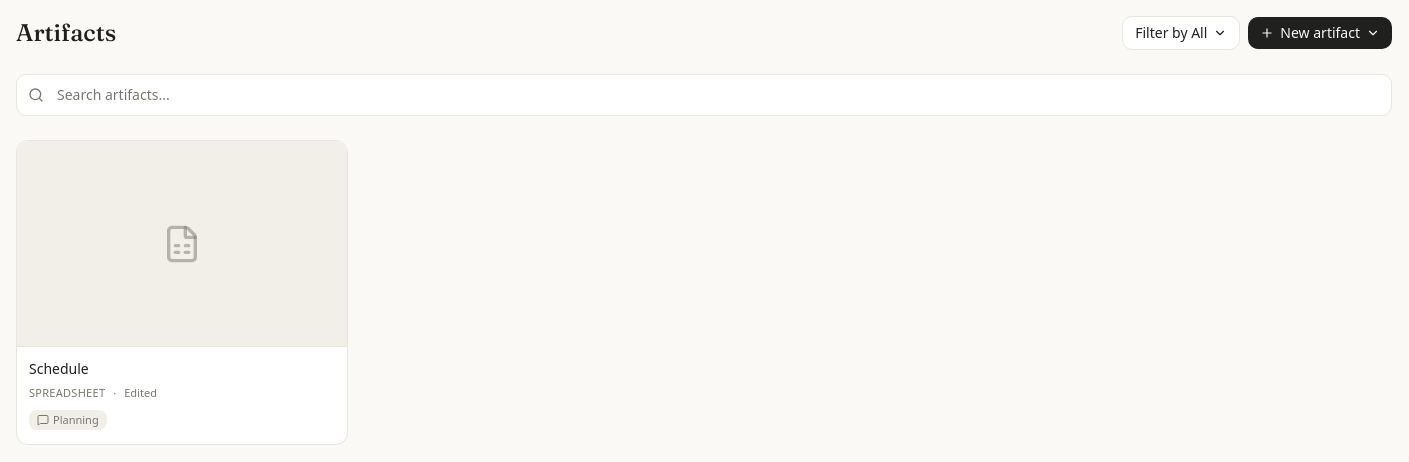
Test: ArtifactsView › filters the grid by the search query
expect the text "Schedule" is shown: met, box [29, 359, 89, 378]
Type "nonmatching" into the field with placeholder "Search artifacts..." at (704, 95), box [16, 74, 1392, 116]
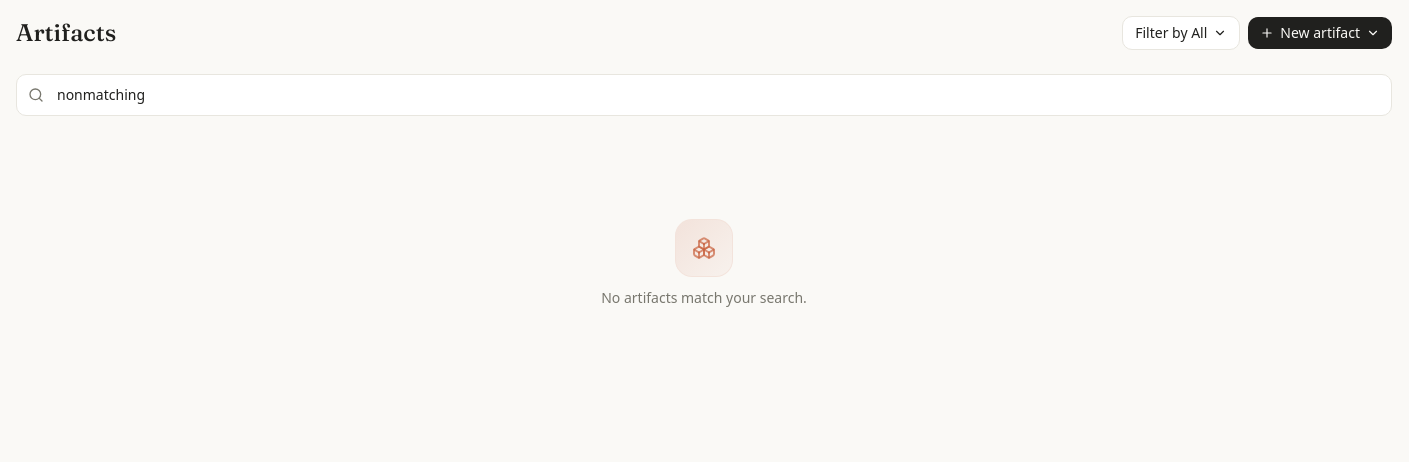
expect the text "Schedule" is gone: met
expect the text "No artifacts match your search." is shown: met, box [601, 288, 807, 308]
